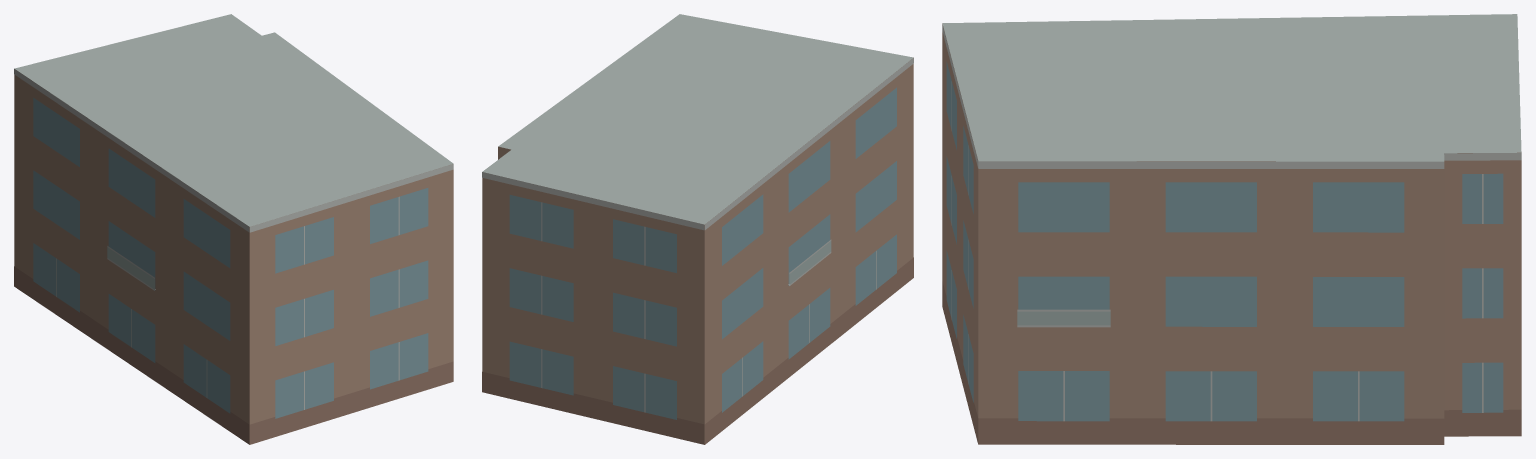
The model's file is survey-upis-32857241.glb.
3 renders of one model, left to right at view 1: azimuth 30°, elevation 25°; view 2: azimuth 150°, elevation 25°; view 3: azimuth 270°, elevation 25°, orthographic. The views are drawn at different scales.
Visible parts, largest first — view 1: survey-upis-32857241.tmp; view 2: survey-upis-32857241.tmp; view 3: survey-upis-32857241.tmp.
Part boxes in pixels (box(x1,y1,x2,y2)): survey-upis-32857241.tmp: box(14, 14, 453, 444); survey-upis-32857241.tmp: box(482, 14, 913, 444); survey-upis-32857241.tmp: box(942, 14, 1521, 444).
Bounding box in the file's own units: 10.25 × 9.15 × 16.96.
